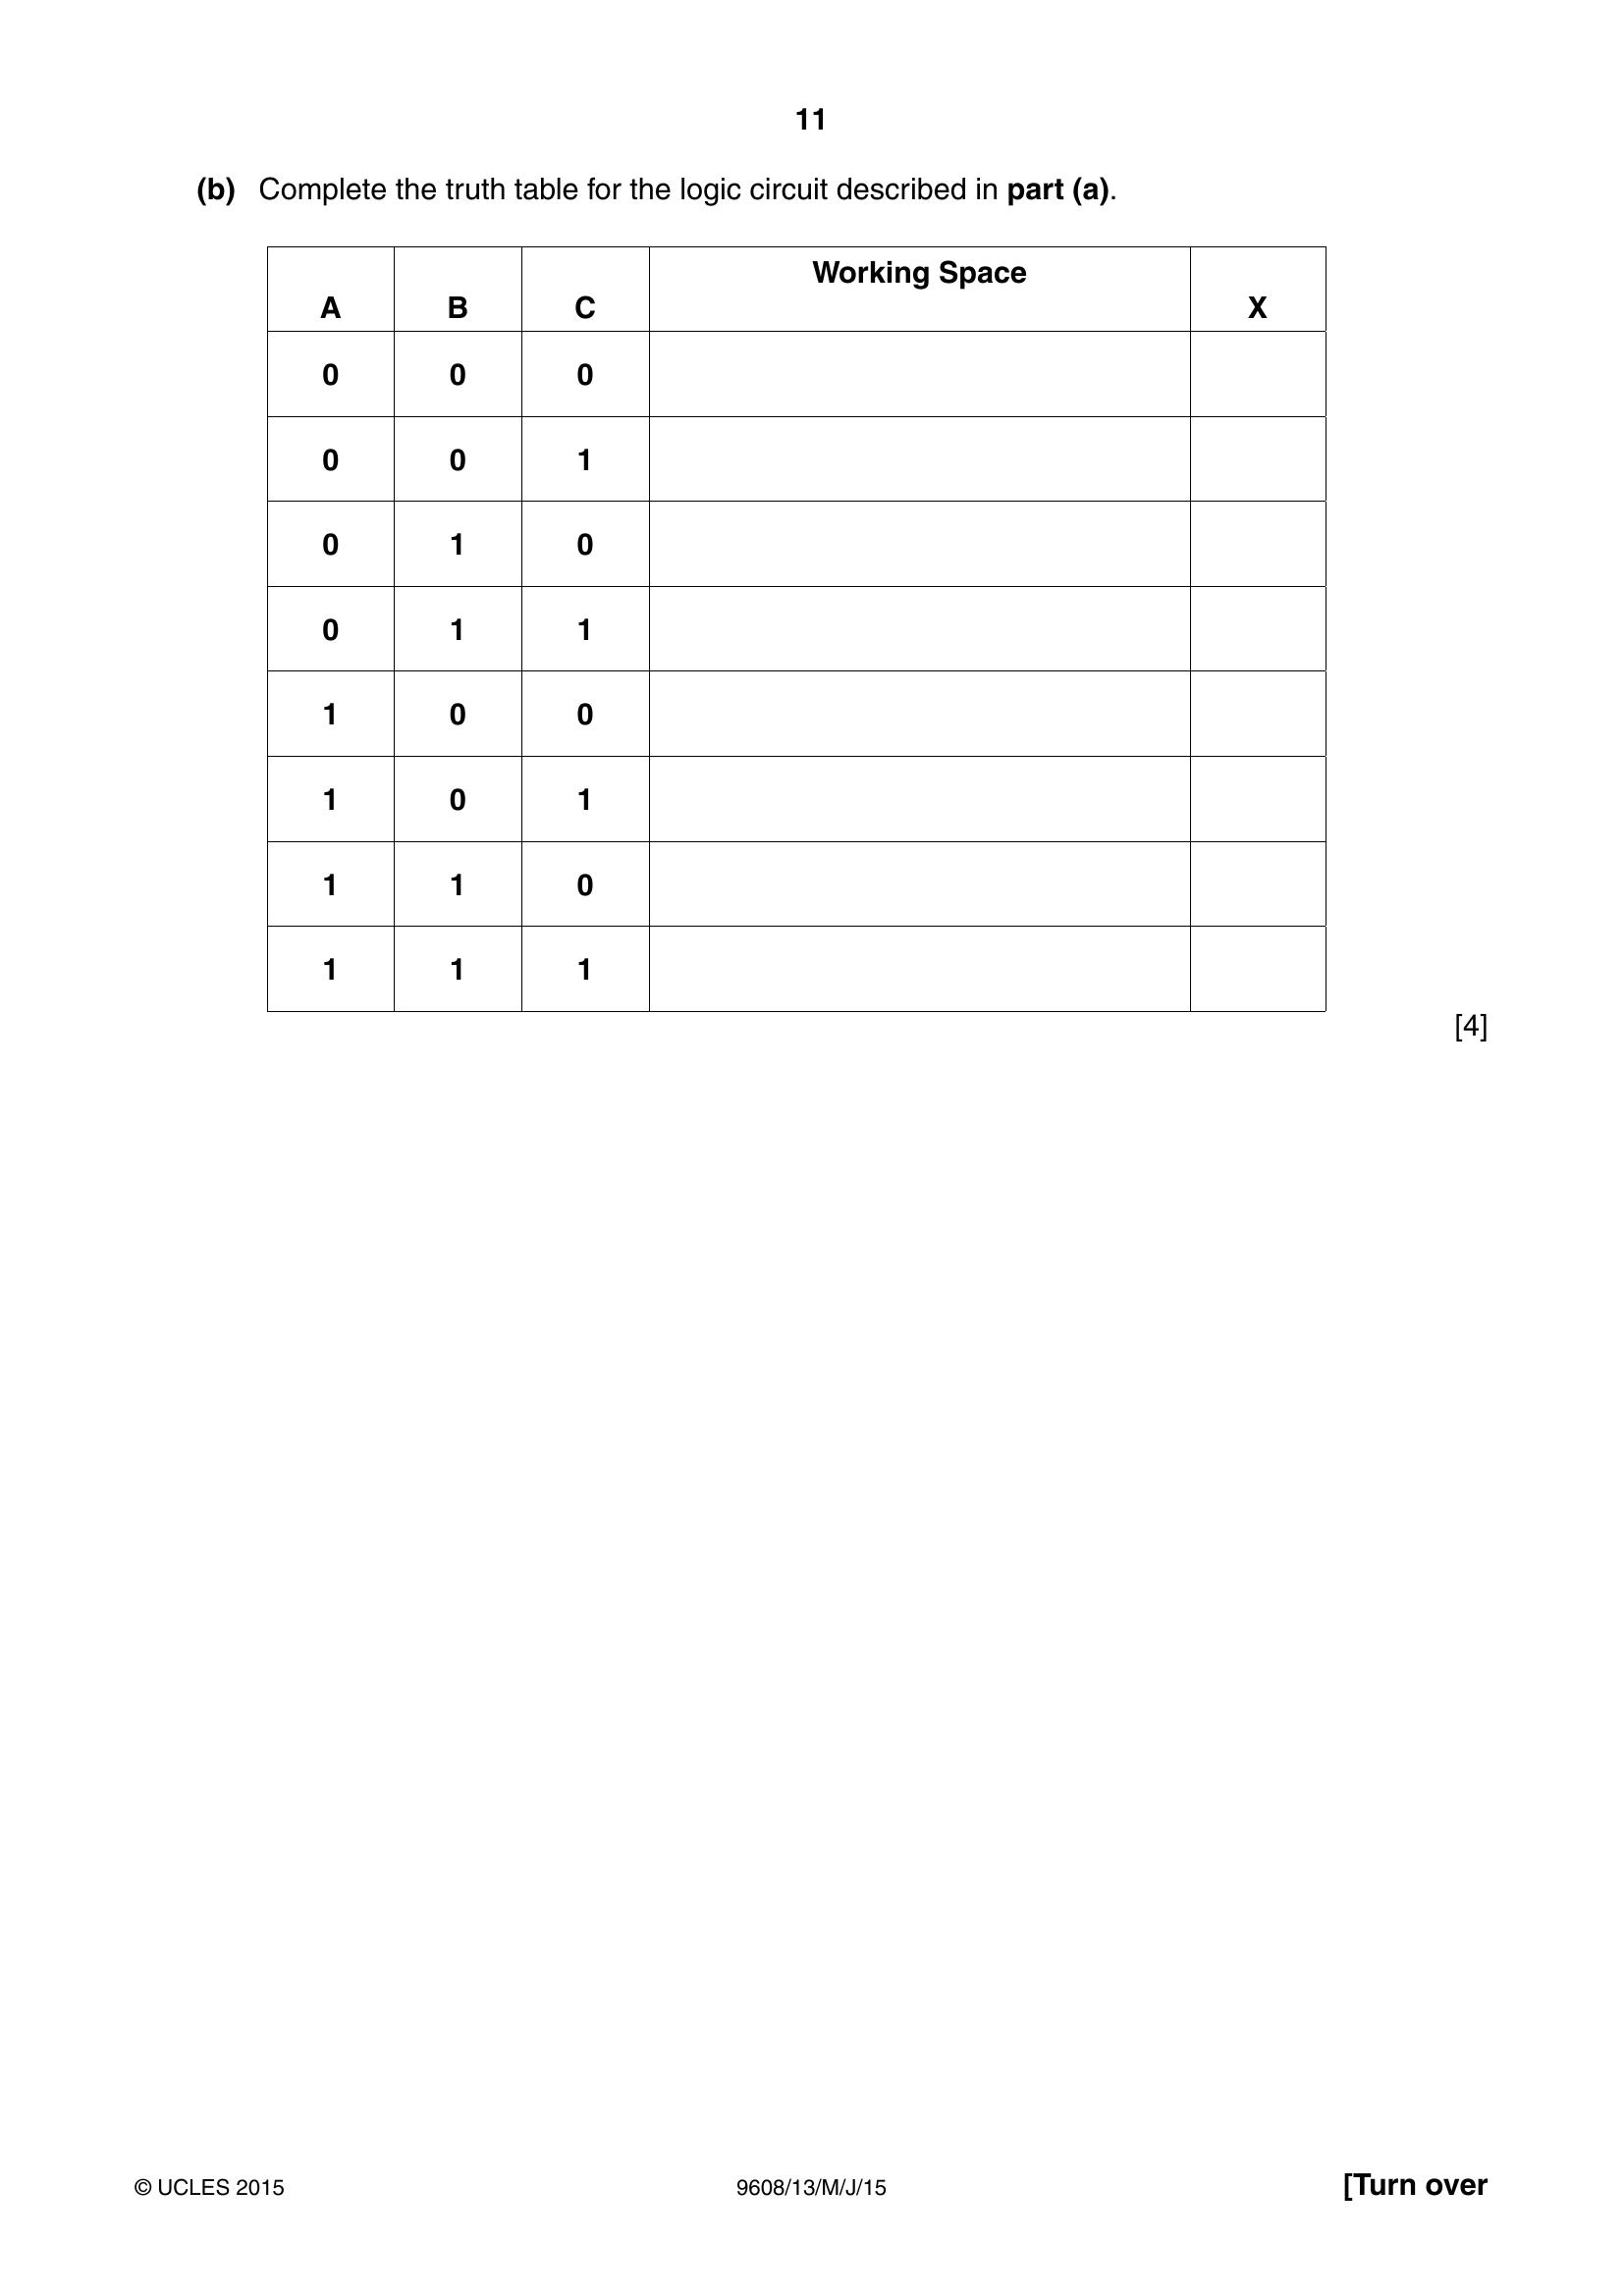continued question: (2, 151, 1620, 1121)
